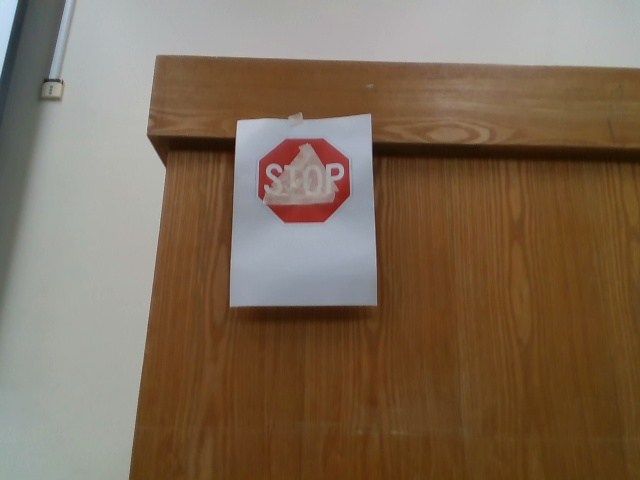stop: (256, 137, 356, 228)
